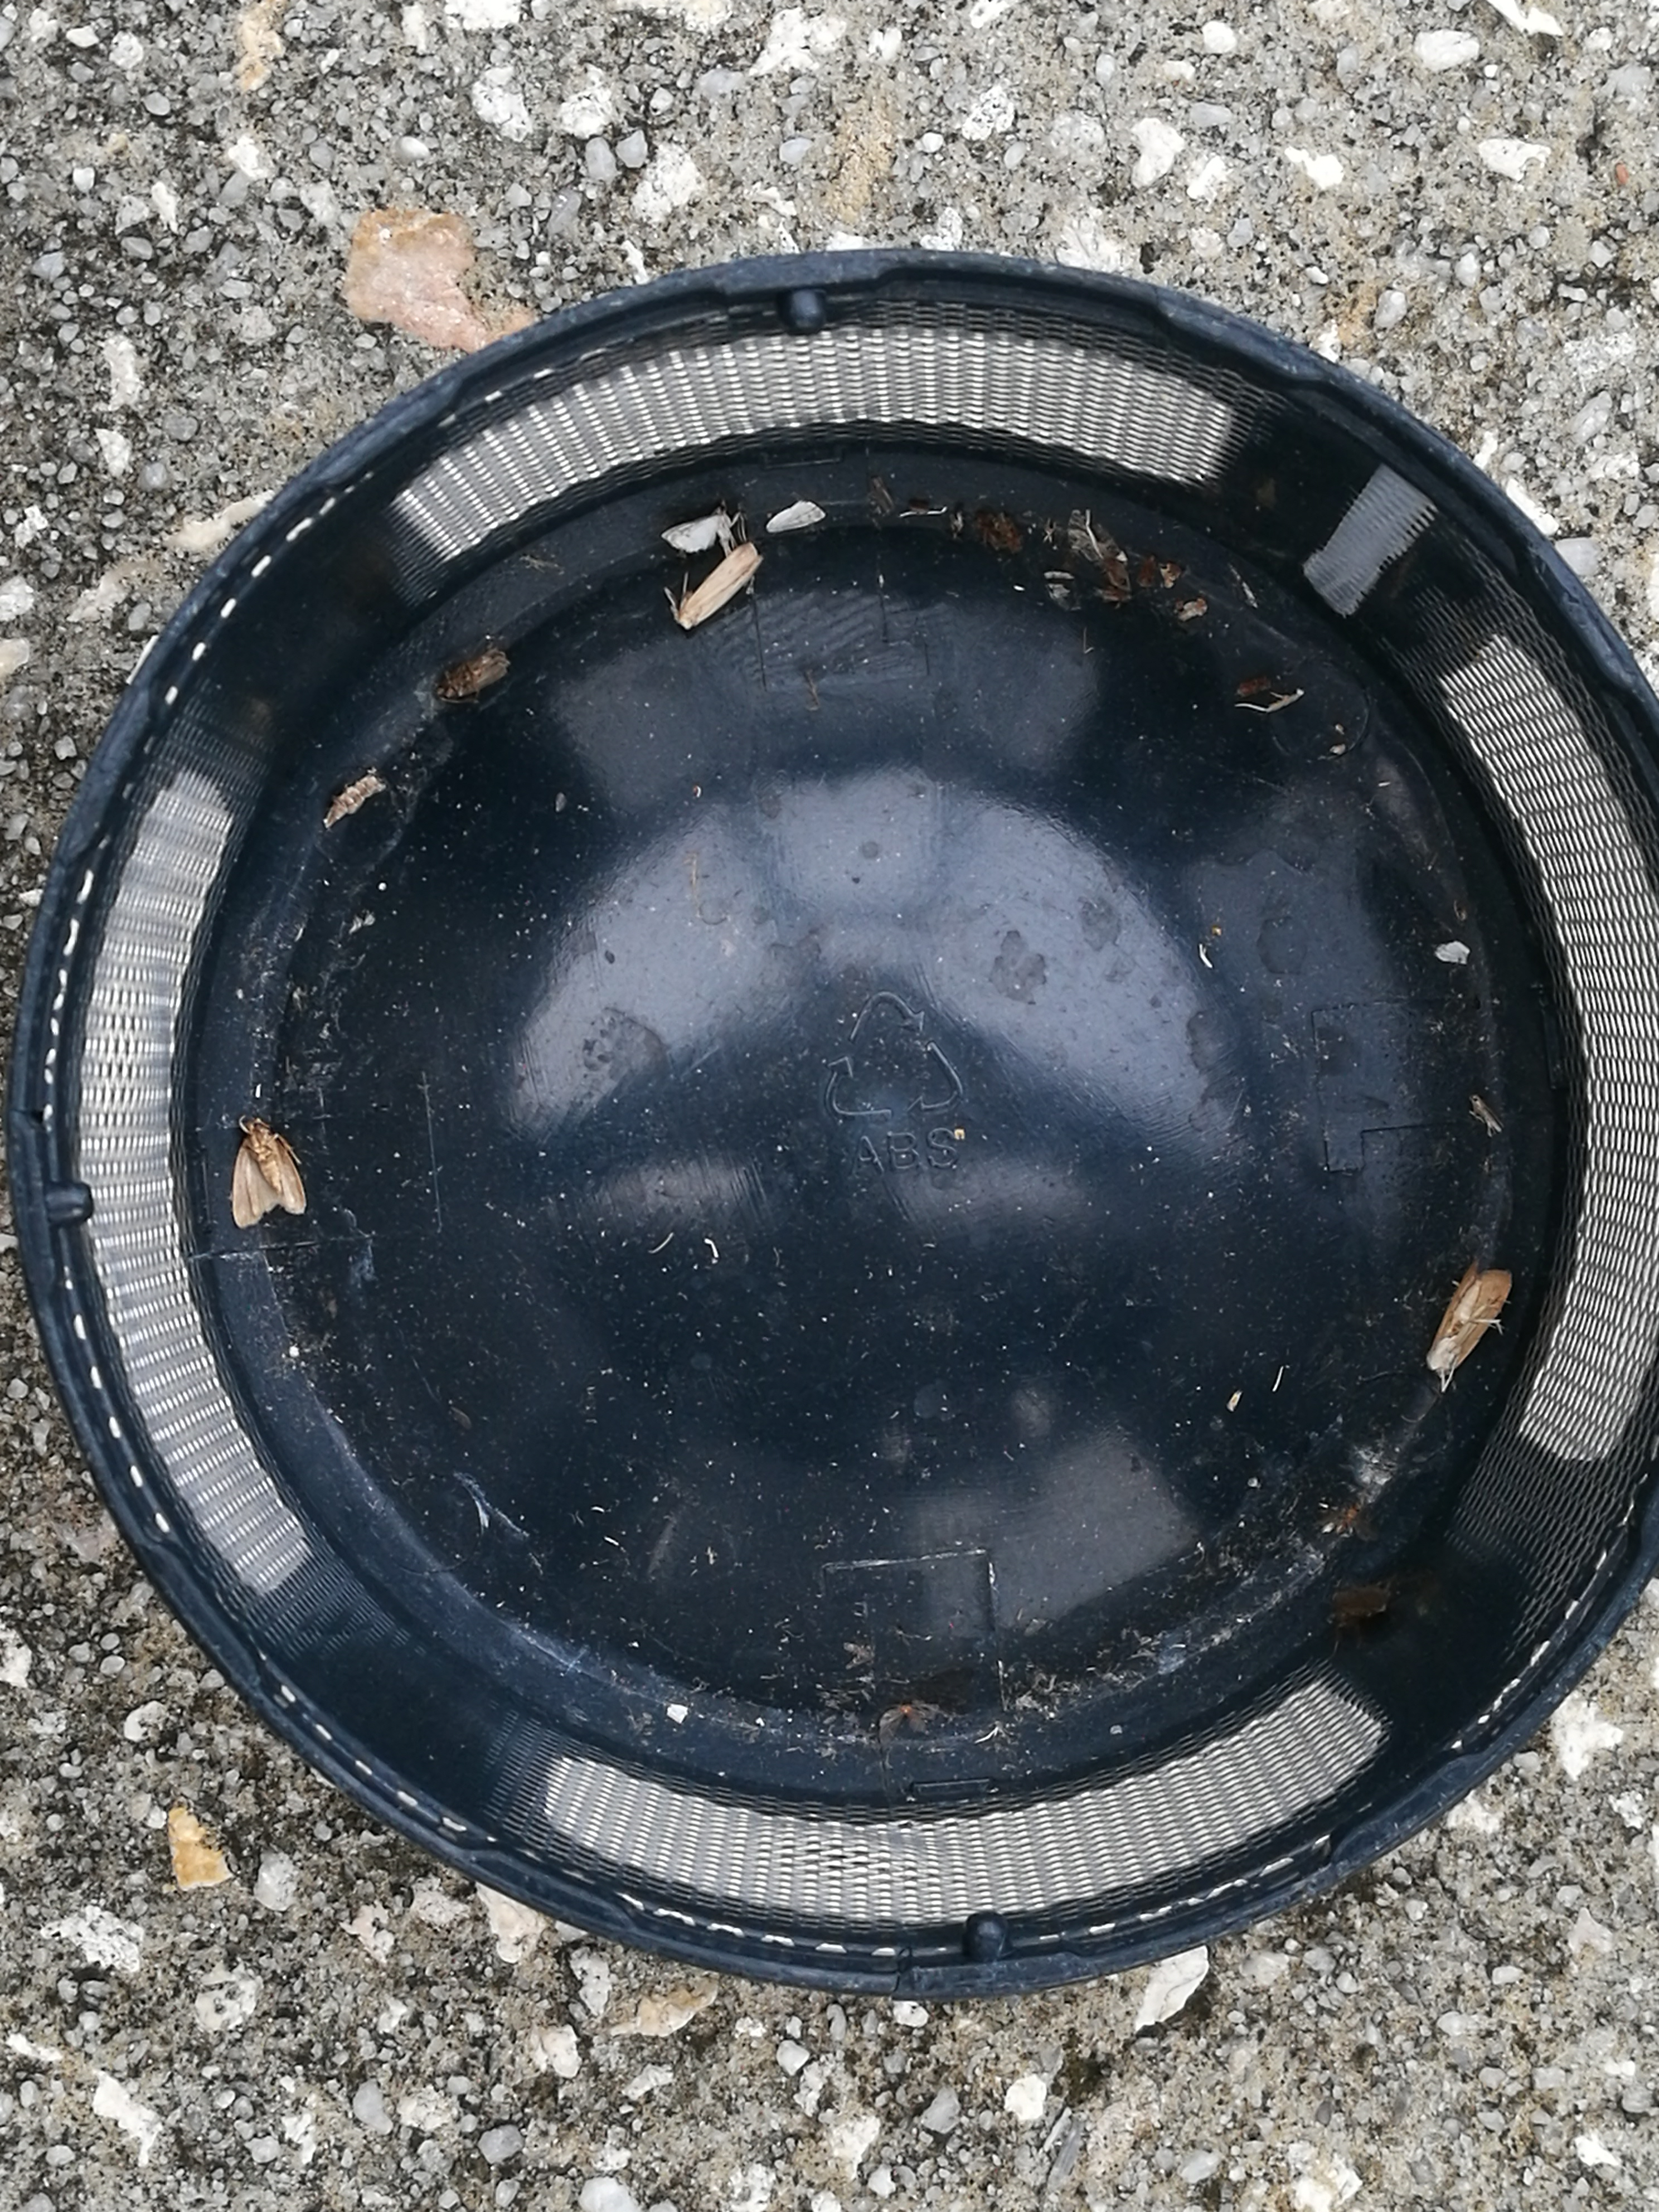mosquito: (1429, 1259, 1511, 1376), (676, 542, 762, 629), (439, 657, 505, 697)
moth: (235, 1127, 305, 1224), (660, 503, 734, 552)
